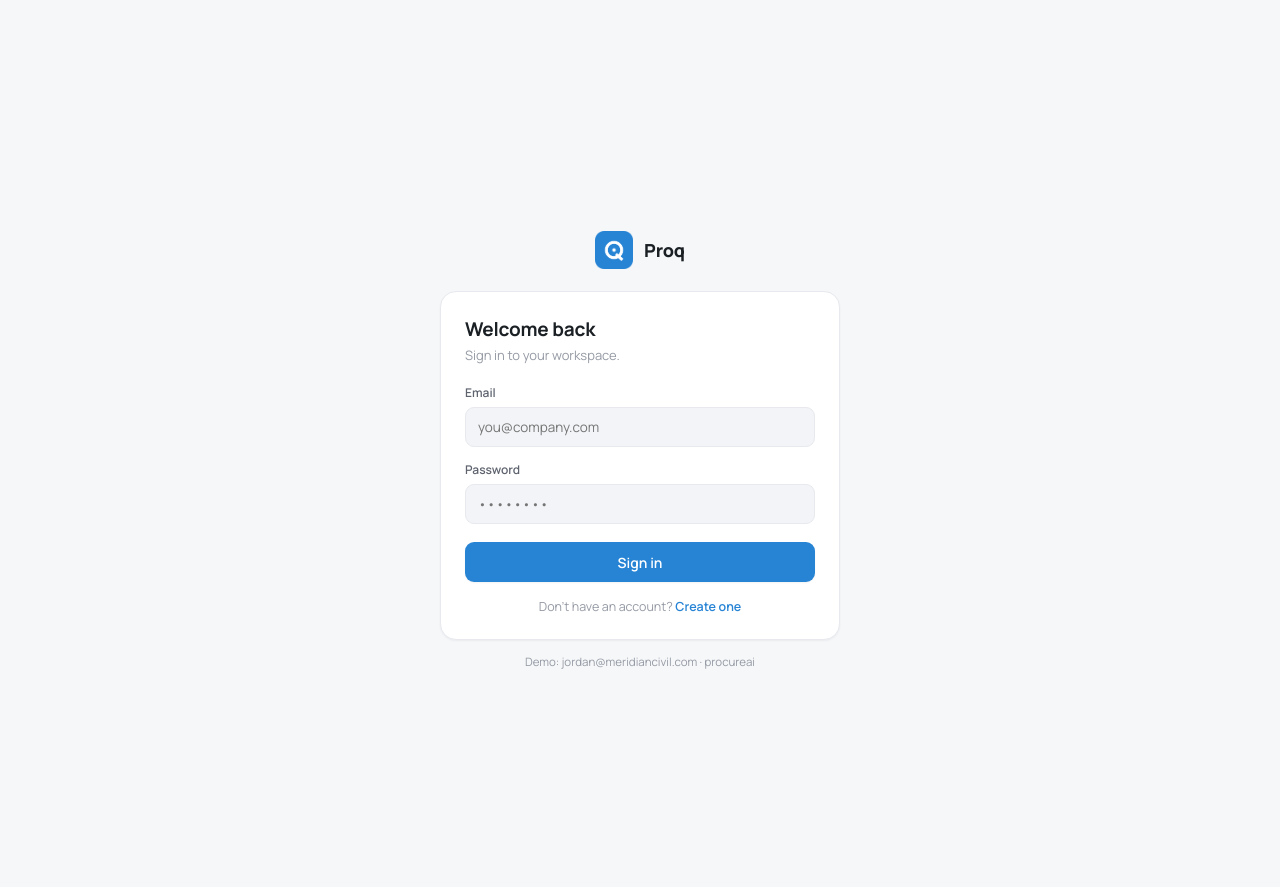
documents tab reliability › creates a custom BOM from an inline name field (no native prompt)
In the field with placeholder "you@company.com": (640, 427) [465, 407, 815, 447], type "pm@acmebuild.com"
In the password field with placeholder "••••••••": (640, 504) [465, 484, 815, 524], type "password123"
Click the button "Sign in": click(640, 562) [465, 542, 815, 582]
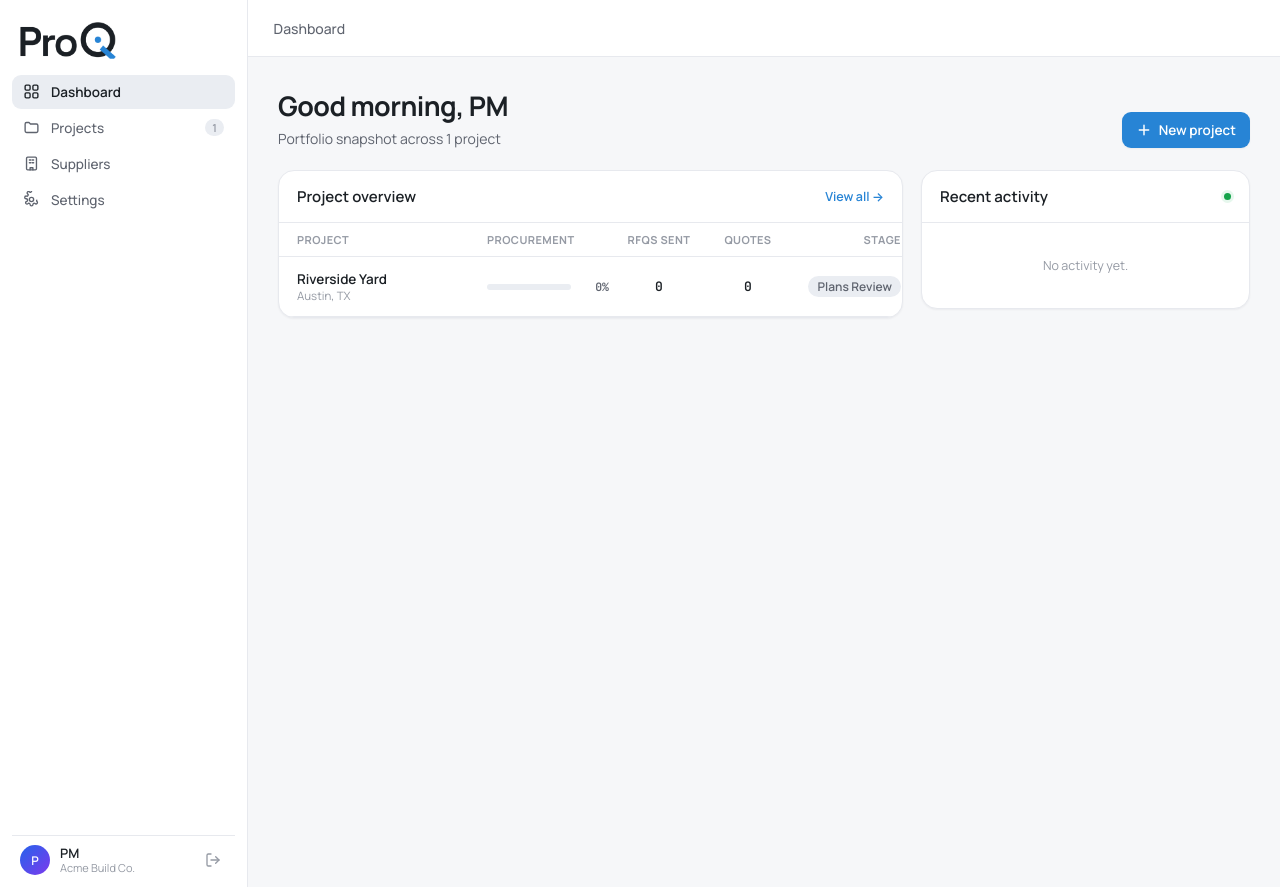
Click the text "Riverside Yard": click(342, 279) [297, 270, 387, 288]
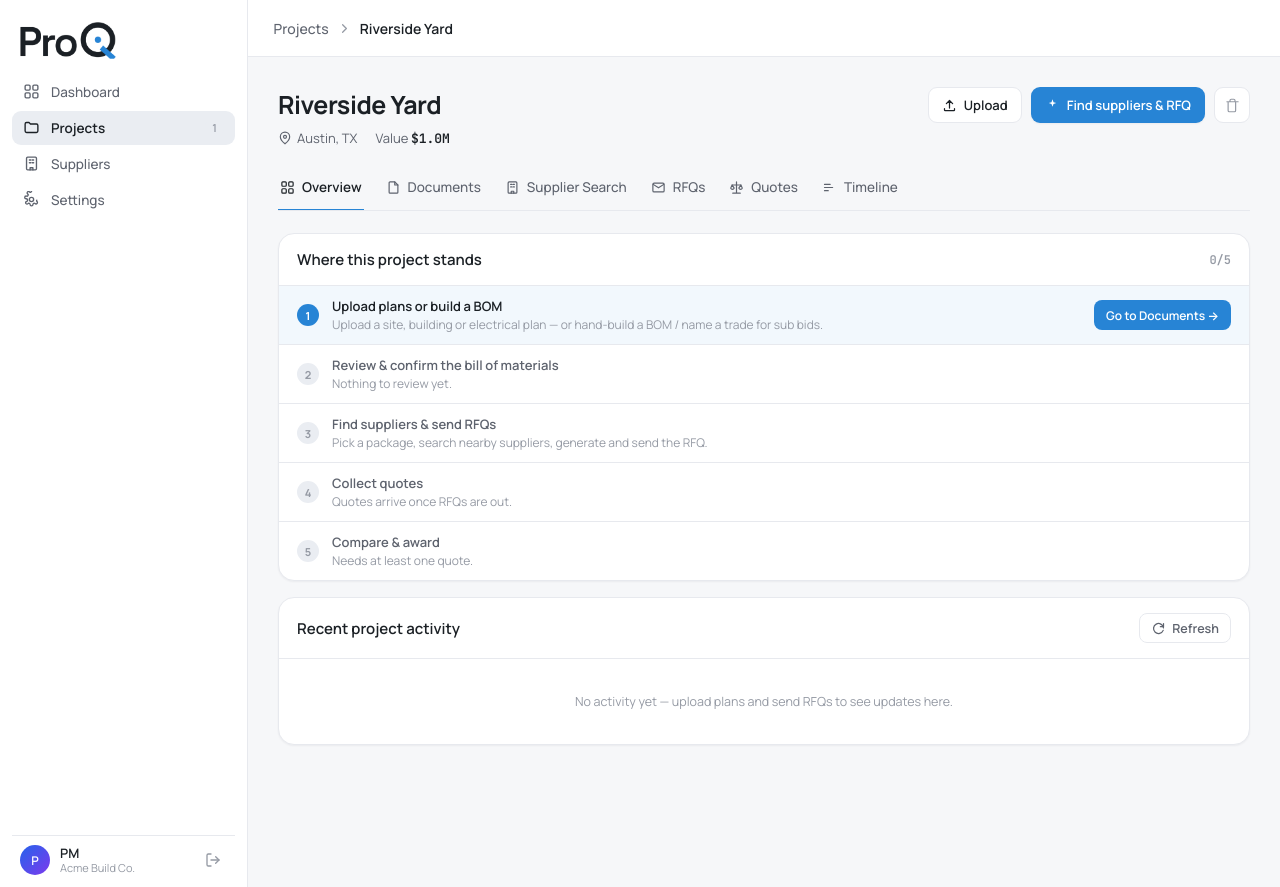
Click the button "Documents": click(433, 188) [384, 165, 483, 211]
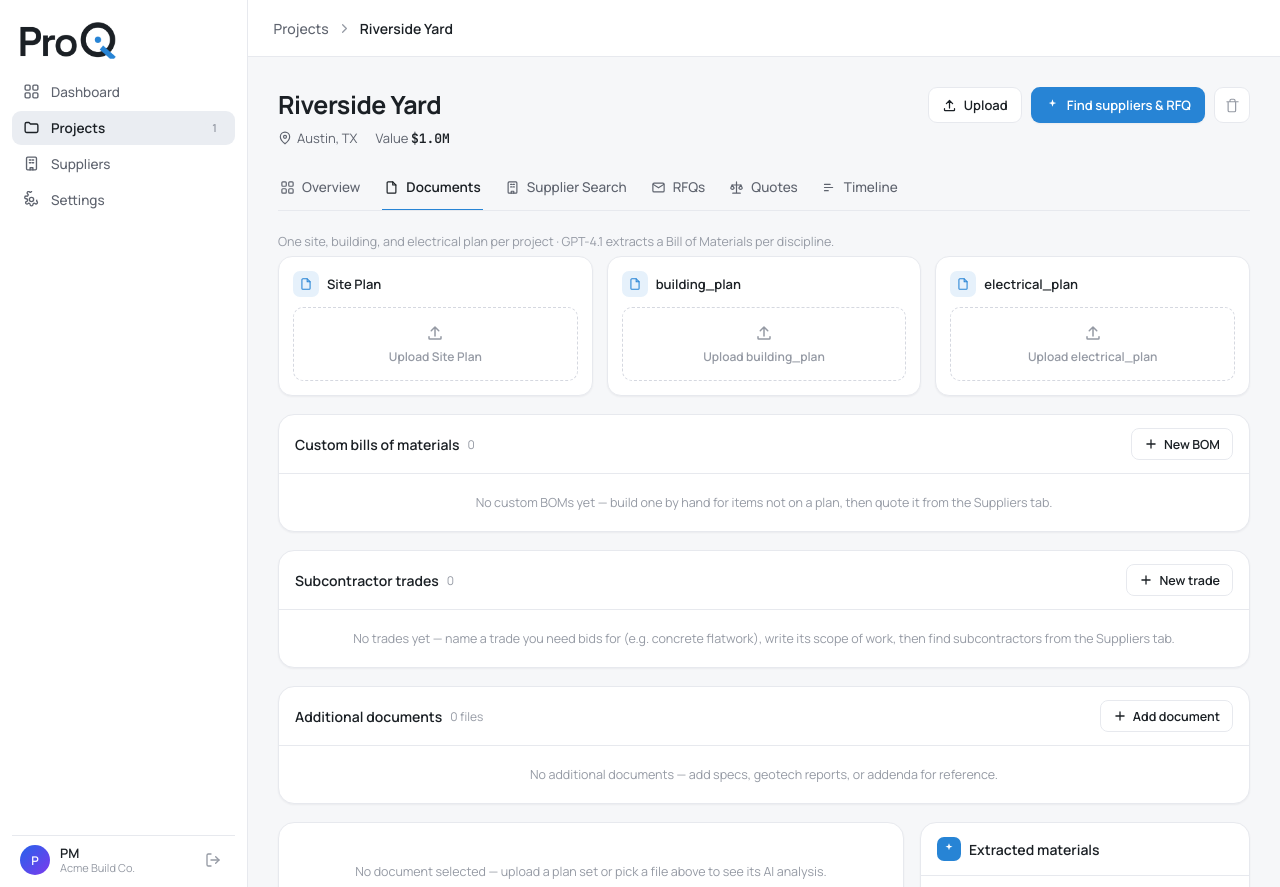
Click the button "New BOM": click(1182, 444) [1131, 428, 1233, 460]
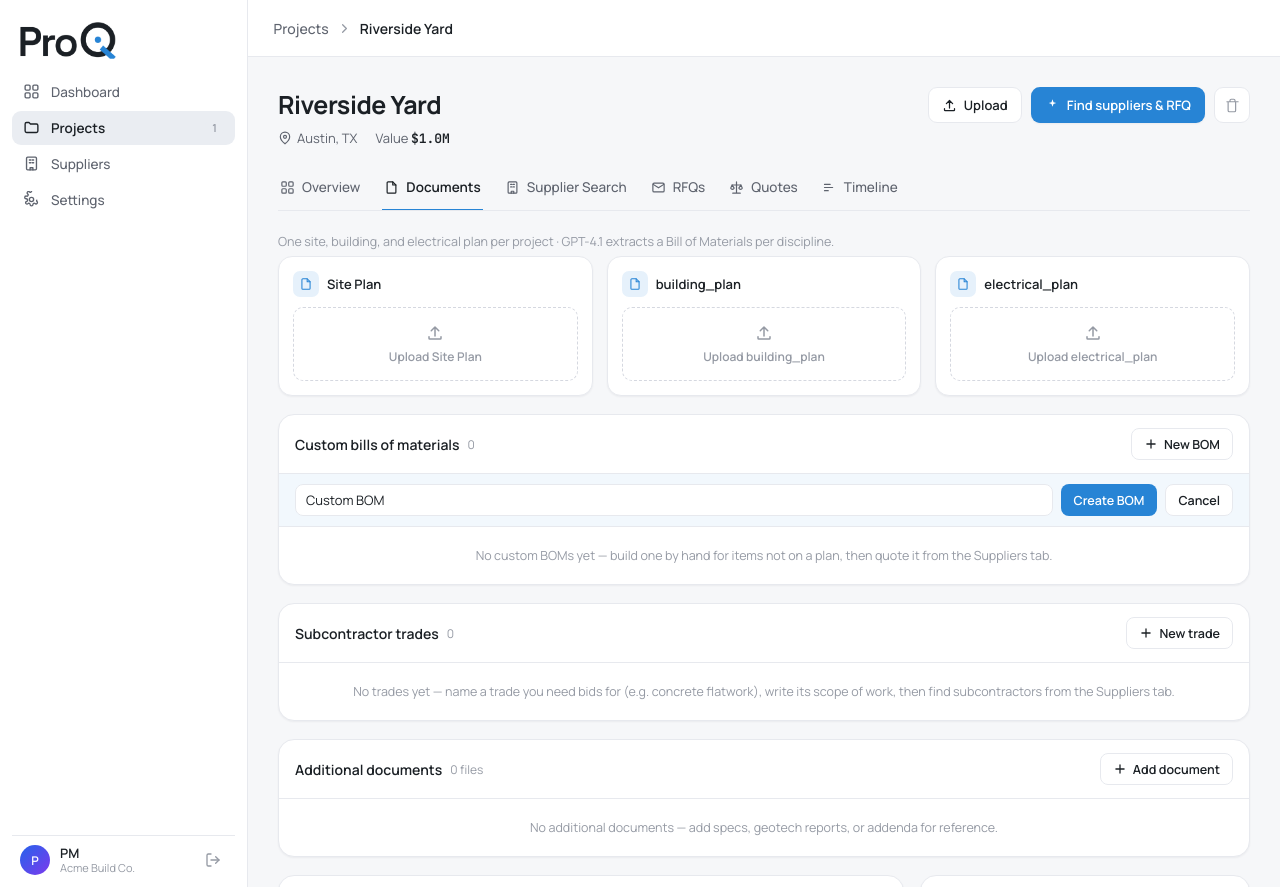
Replace the text in the field named "Name this bill of materials" with "Hydrants": (674, 500) [295, 484, 1052, 516]
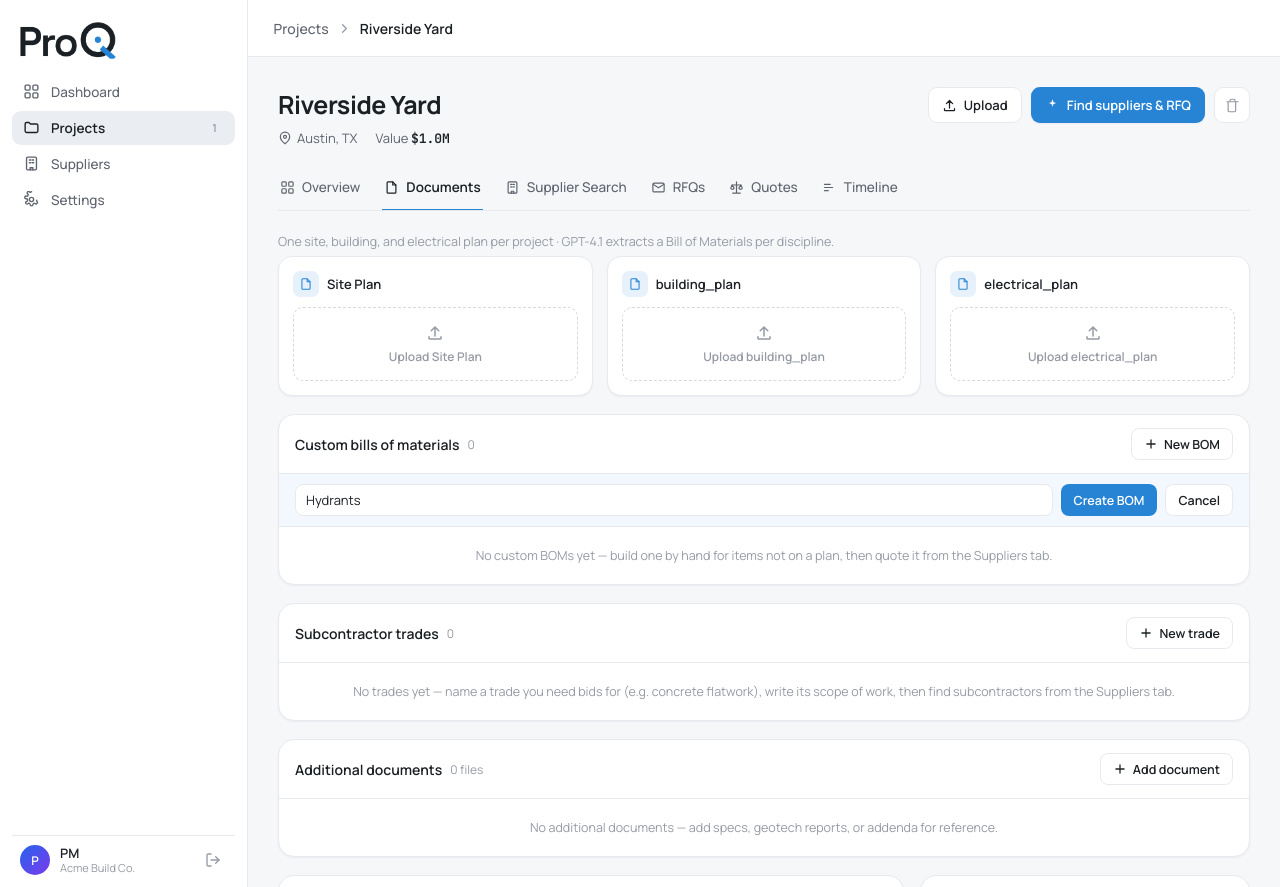
Click the button "Create BOM": click(1109, 500) [1060, 484, 1157, 516]
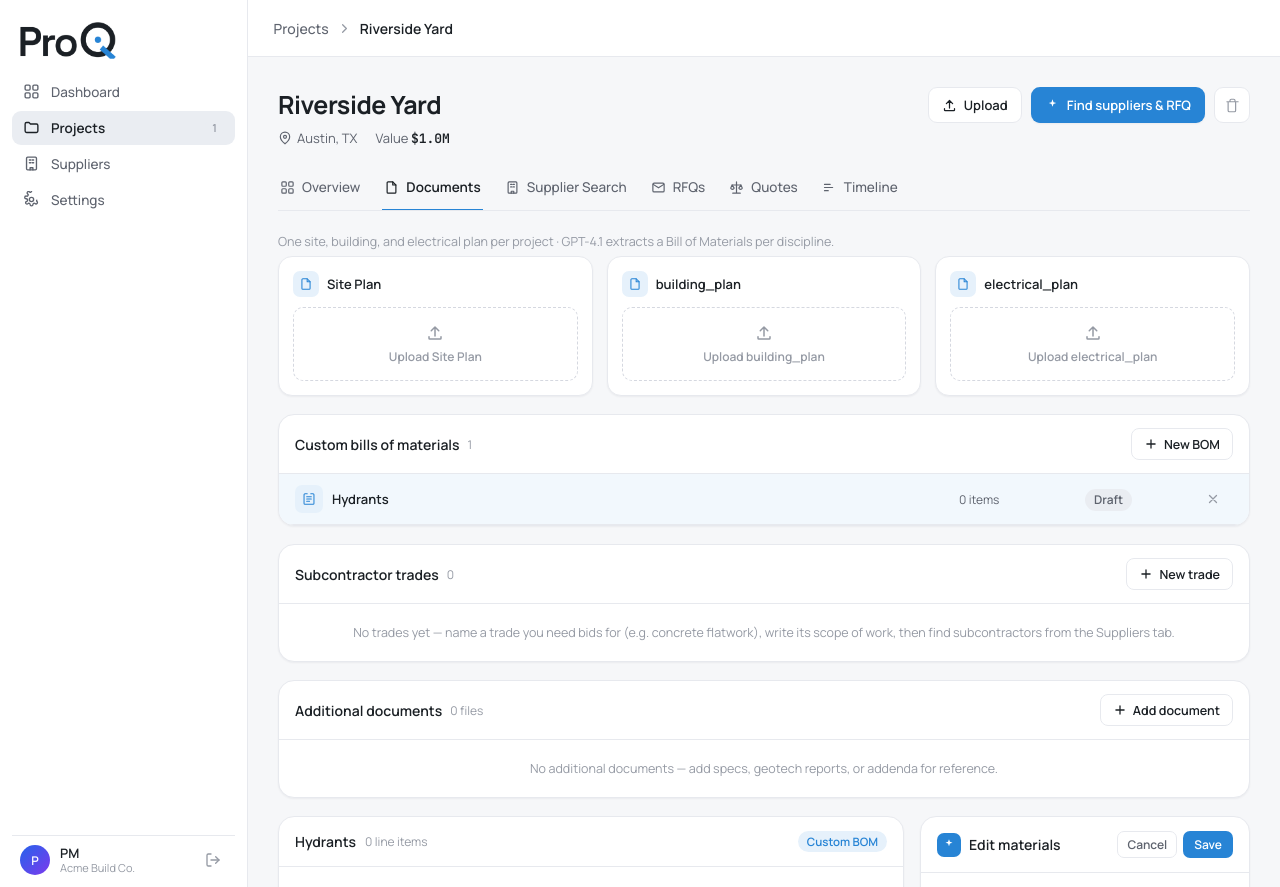
Expected: the heading "Edit materials" is shown, [969, 835, 1061, 854]
